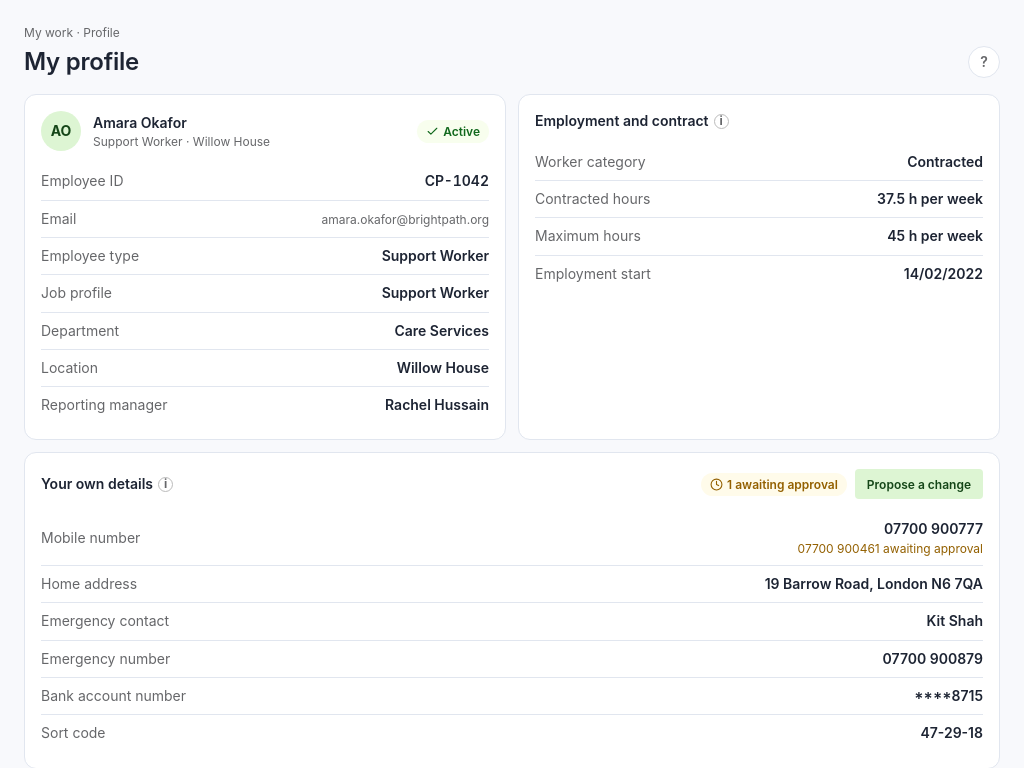
Test case: a field already awaiting approval cannot be proposed again, and bank details say payroll checks them
Click the button with test id "profile-propose" at (919, 484), box x1=855 y1=470 x2=983 y2=500
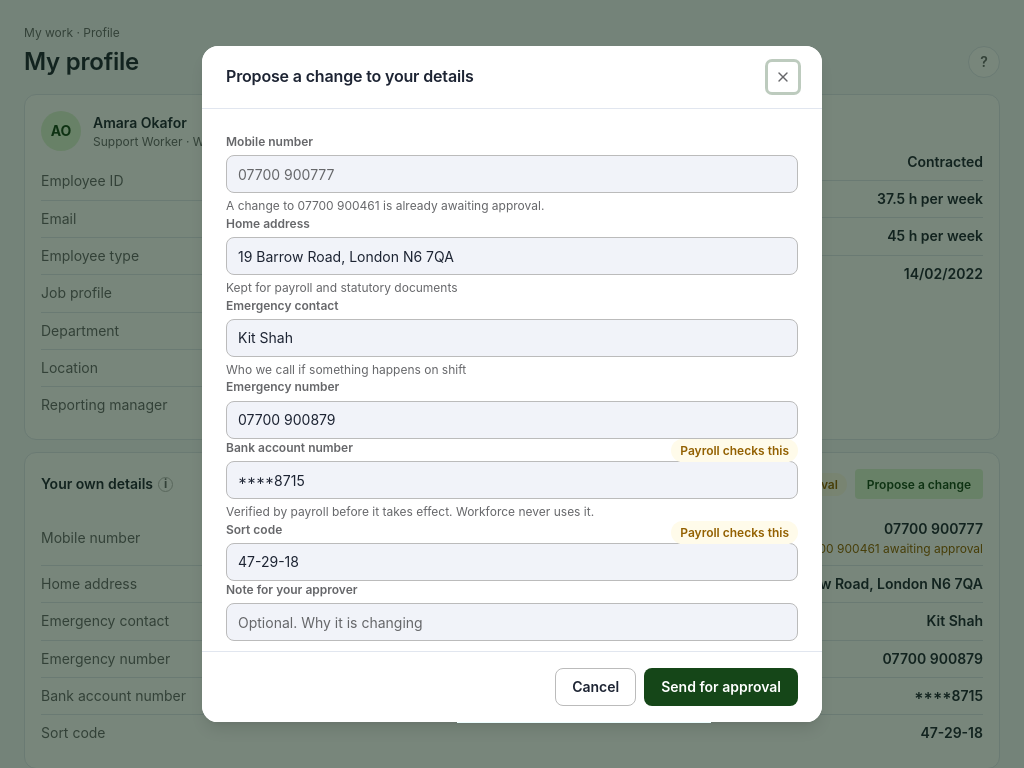
Expected: the button with test id "profile-send" is shown, x1=644 y1=668 x2=798 y2=706
